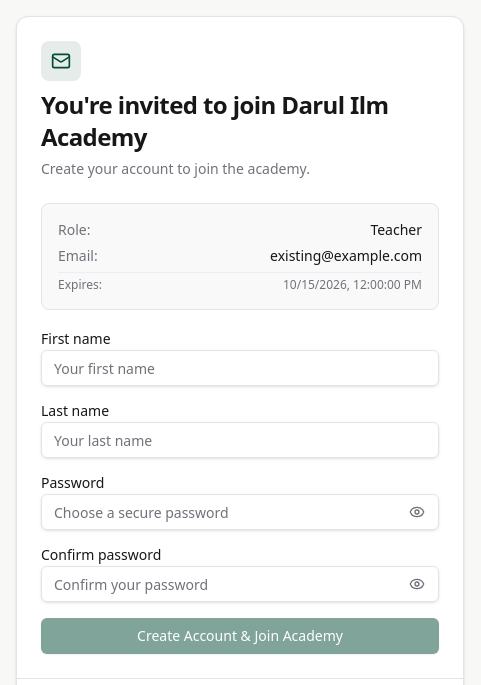
AcceptInvitationPage › Existing Account Path › shows clear guidance and sign-in link preserving returnUrl when account already exists
Expected: the text "You're invited to join Darul Ilm Academy" is shown, x1=41 y1=89 x2=439 y2=153
Type "Zayd" into the field labelled "First name" at (240,368), box x1=41 y1=350 x2=439 y2=386
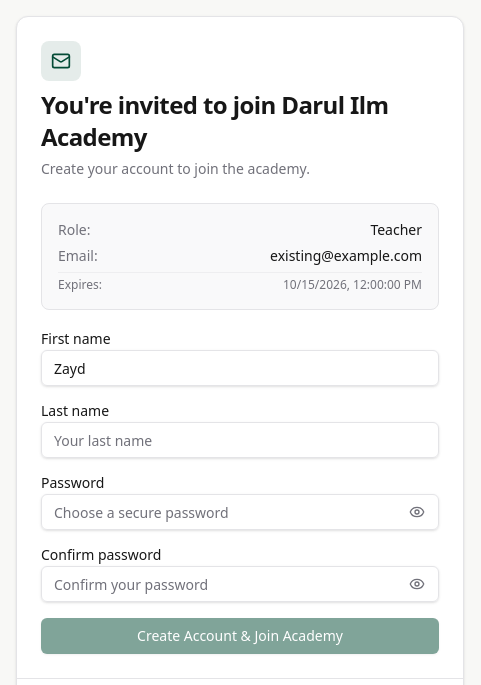
Type "Ali" into the field labelled "Last name" at (240,440), box x1=41 y1=422 x2=439 y2=458
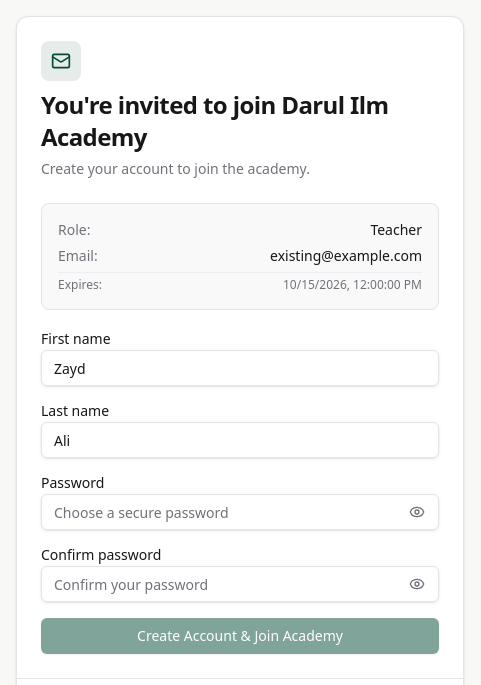
Type "Password123!" into the password field labelled "Password" at (240,512), box x1=41 y1=494 x2=439 y2=530
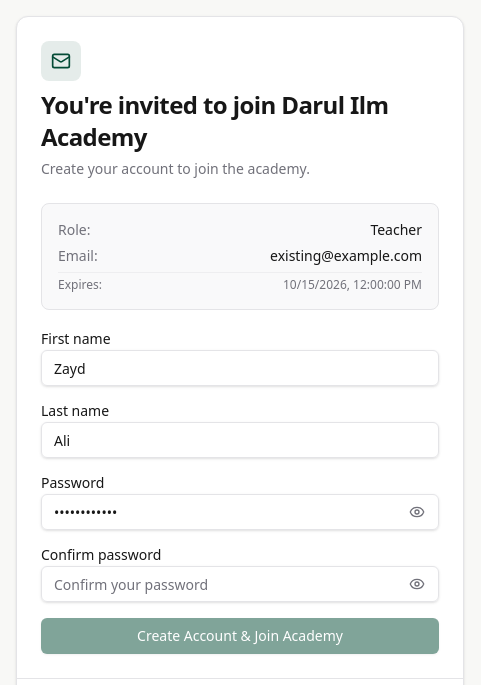
Type "Password123!" into the password field labelled "Confirm password" at (240,584), box x1=41 y1=566 x2=439 y2=602
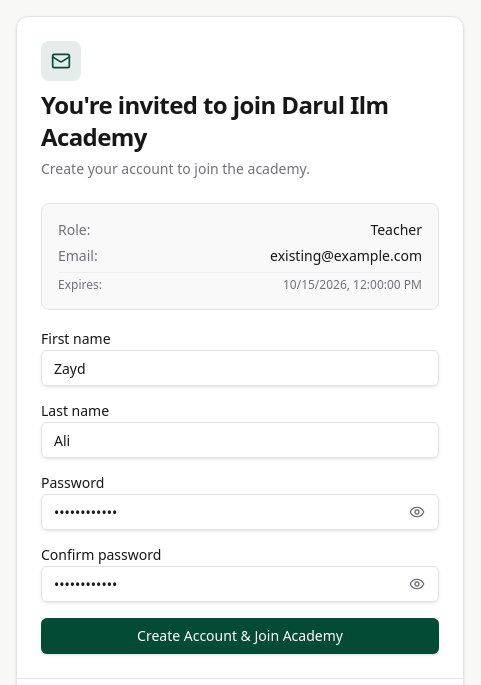
Click the button "Create Account & Join Academy" at (240,636), box x1=41 y1=618 x2=439 y2=654
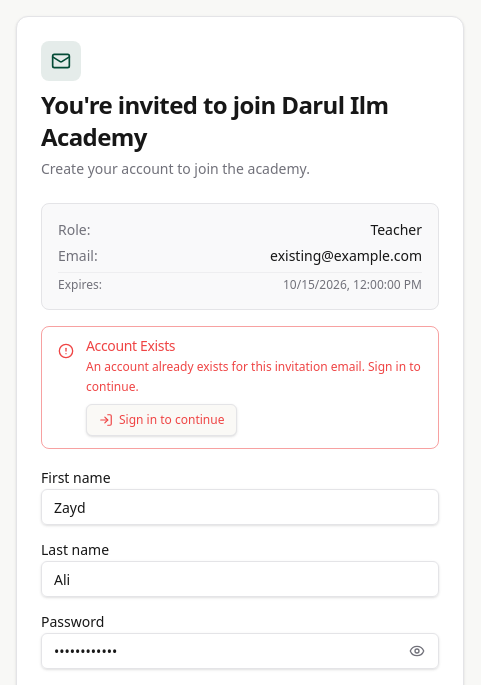
Now the text "An account already exists for this invitation email. Sign in to continue." is shown, box x1=86 y1=357 x2=422 y2=396
Now the link "Sign in to continue" is shown, box x1=86 y1=404 x2=237 y2=436
